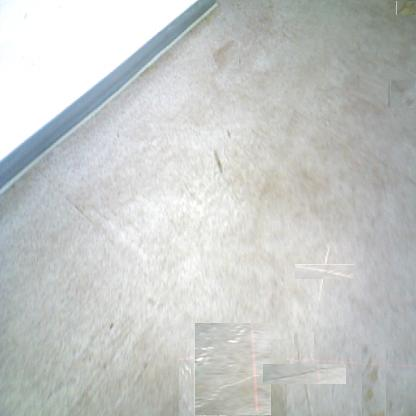liquid: (186, 331, 279, 416), (278, 348, 330, 400), (362, 344, 386, 416), (306, 253, 343, 291), (396, 1, 415, 15)
mark: (212, 41, 240, 68), (388, 81, 416, 108), (213, 146, 224, 174), (224, 128, 232, 140), (109, 320, 115, 330)
